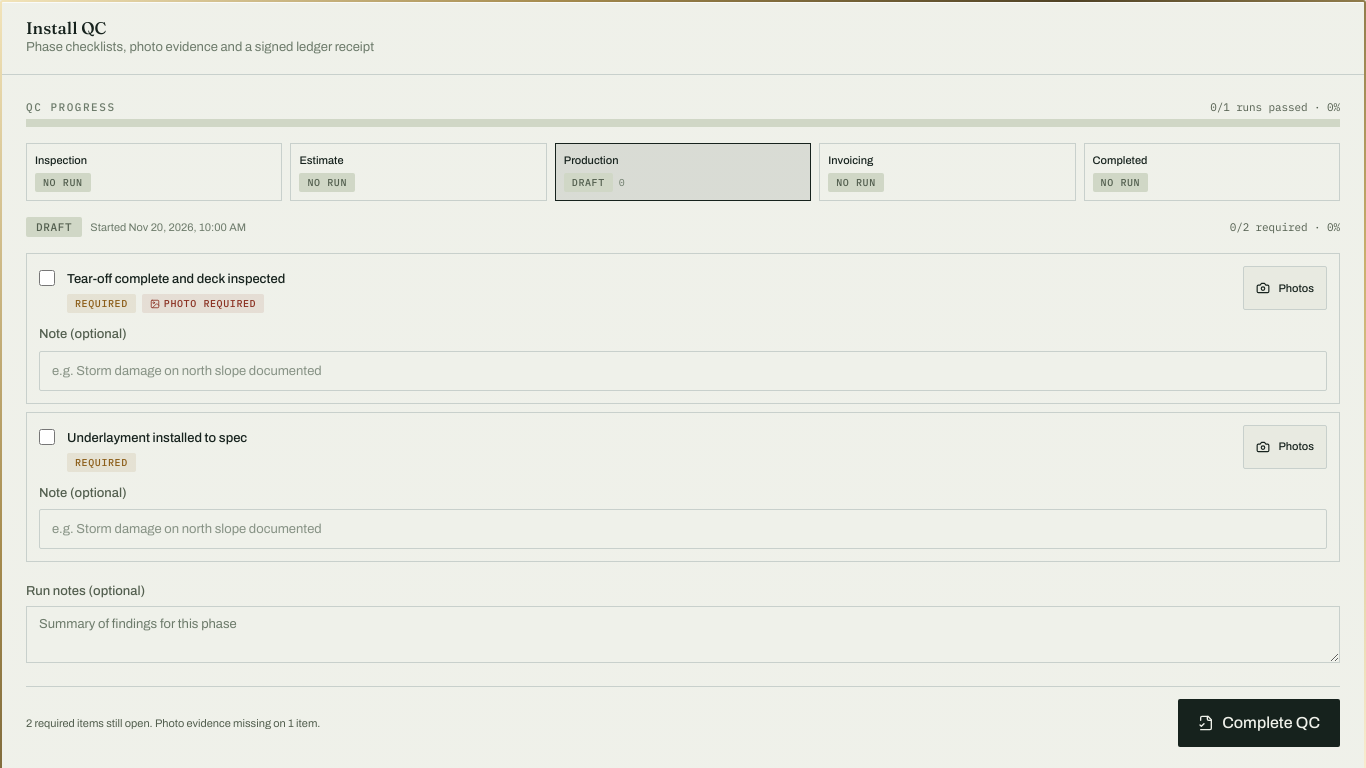
it: QcPanel — creating and editing a draft › completes the run and shows the PASSED result with its ledger receipt
Click the button with aria-label "Complete Production QC run": (1259, 723) [1178,699,1340,747]
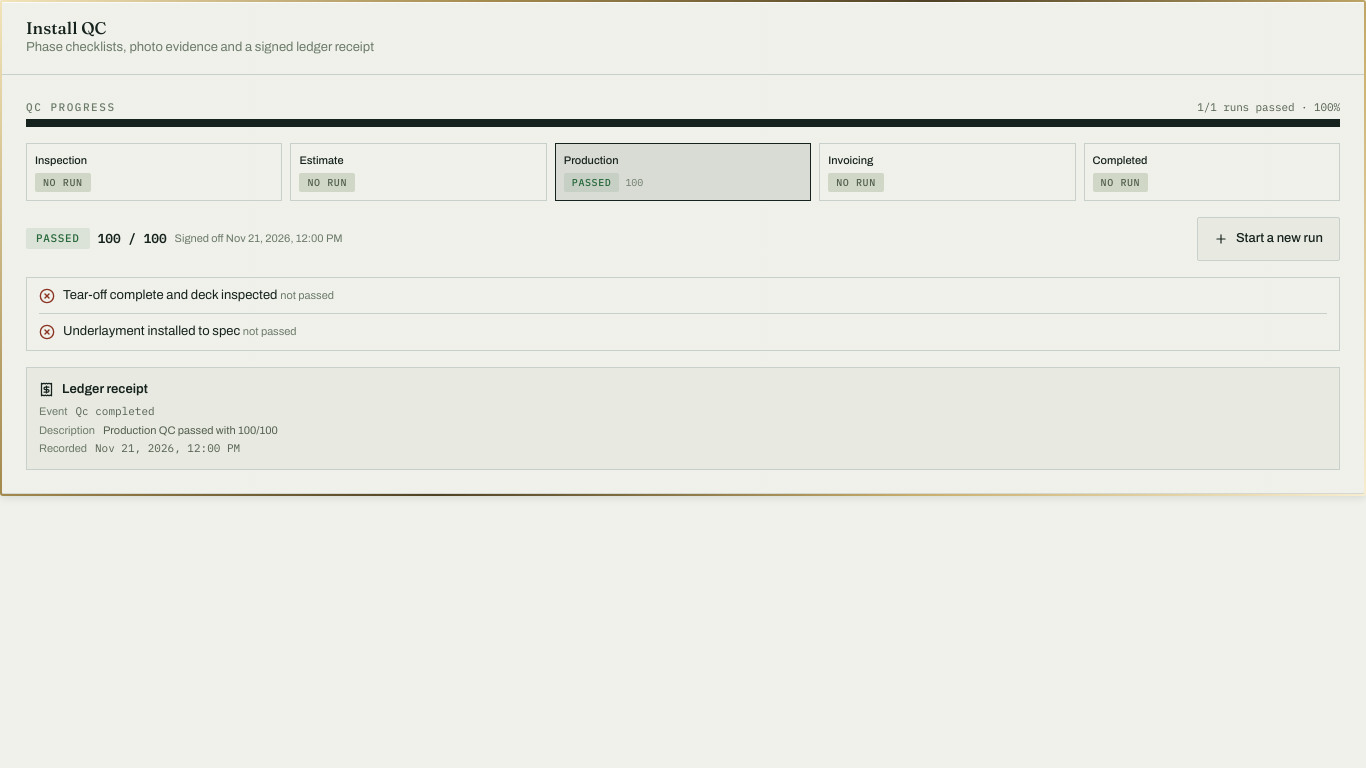
expect the text "Ledger receipt" is shown: met, box [39,382,148,397]
expect the text "Production QC passed with 100/100" is shown: met, box [103,422,278,438]
expect the text "Signed off Nov 21, 2026, 12:00 PM" is shown: met, box [175,230,342,247]
